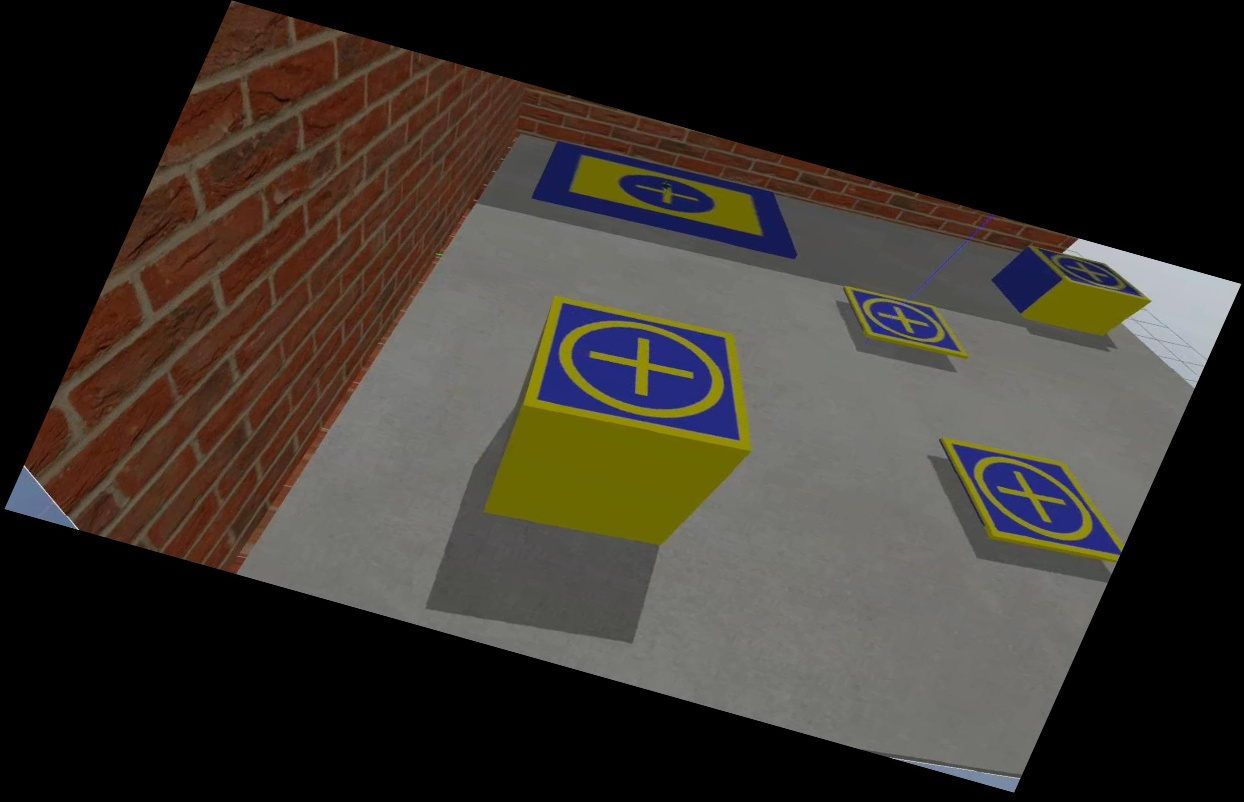large_base: (530, 132, 820, 273), (1015, 240, 1164, 311)
small_base: (506, 286, 795, 469), (906, 426, 1153, 574), (825, 280, 985, 366)
